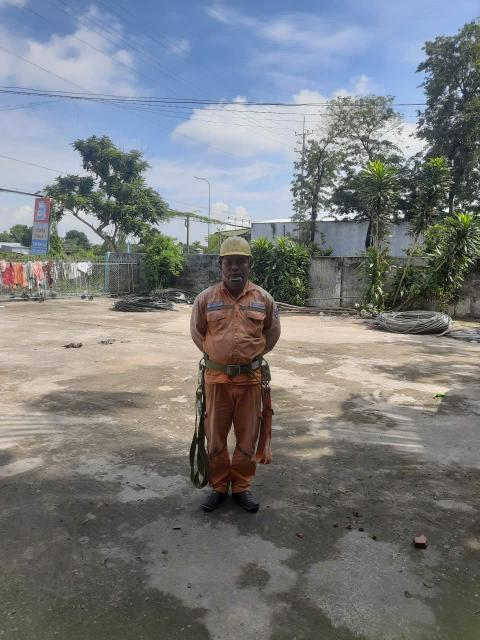harness: (194, 348, 273, 386)
helmet: (198, 234, 267, 268)
shoes: (189, 472, 231, 533), (230, 479, 288, 522)
